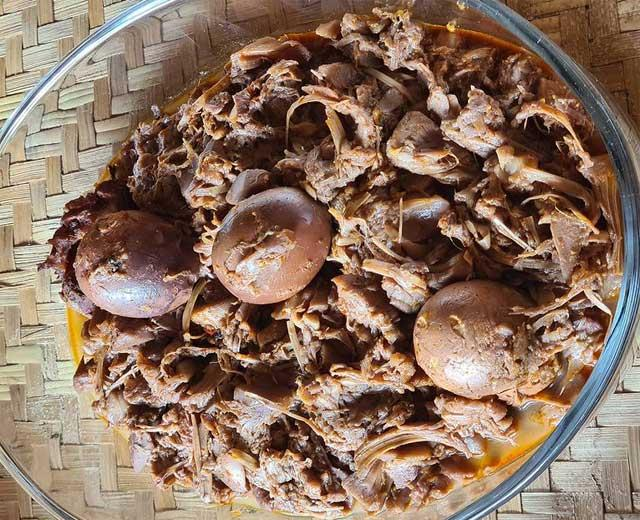gudeg: (53, 15, 622, 513)
